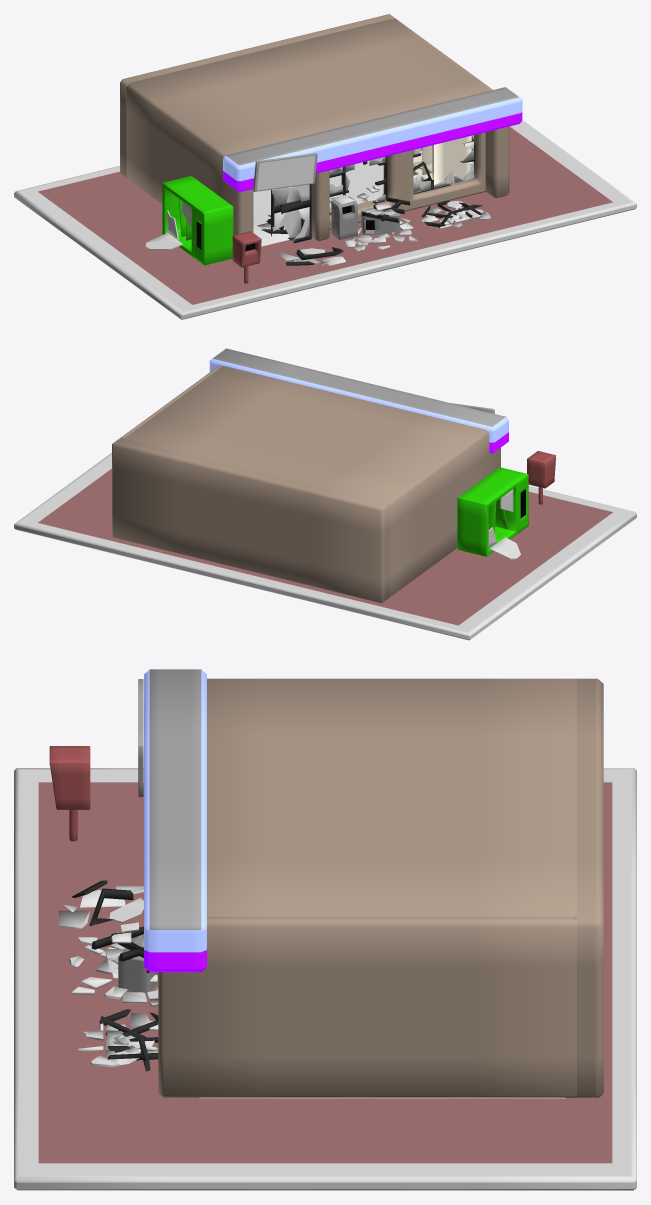
Rendered from Store_Inside_Rond.fbx.
3 views of the same model, one above another, from view 1: azimuth 30°, elevation 25°; view 2: azimuth 150°, elevation 25°; view 3: azimuth 270°, elevation 25° (orthographic). The views are drawn at different scales.
Visible parts, largest first — view 1: Plane.001, Roof, Light_Purple_Blue, Right_Wall, Cube.013, Frot_wall, Back_Wall, Floor, Left_Wall, Name_Sign, Cube.015, Front_Pilar (+12 smaller); view 2: Back_Wall, Roof, Plane.001, Right_Wall, Light_Purple_Blue, Cube.013, Cylinder, Cube.014_cell; view 3: Plane.001, Roof, Left_Wall, Light_Purple_Blue, Back_Wall, Cube.026_cell, Cylinder, Cube.037_cell.002, Cube.023_cell.004, Trash_can, Cube.022_cell.001, Floor.
Boxes of the visible parts, left/top/right/bottom form: Plane.001: left=14, top=120, right=636, bottom=319; Roof: left=129, top=19, right=489, bottom=154; Light_Purple_Blue: left=223, top=87, right=522, bottom=192; Right_Wall: left=126, top=83, right=253, bottom=235; Cube.013: left=162, top=176, right=233, bottom=265; Frot_wall: left=303, top=132, right=485, bottom=229; Back_Wall: left=120, top=14, right=395, bottom=178; Floor: left=253, top=160, right=383, bottom=246; Left_Wall: left=392, top=18, right=509, bottom=198; Name_Sign: left=253, top=153, right=317, bottom=191; Cube.015: left=413, top=136, right=471, bottom=185; Front_Pilar: left=311, top=170, right=329, bottom=241; Back_Wall: left=112, top=437, right=389, bottom=603; Roof: left=124, top=366, right=485, bottom=502; Plane.001: left=14, top=453, right=636, bottom=640; Right_Wall: left=387, top=430, right=500, bottom=596; Light_Purple_Blue: left=209, top=348, right=508, bottom=453; Cube.013: left=457, top=467, right=528, bottom=556; Cylinder: left=527, top=451, right=555, bottom=504; Cube.014_cell: left=488, top=489, right=520, bottom=559; Plane.001: left=14, top=768, right=636, bottom=1190; Roof: left=207, top=678, right=576, bottom=916; Left_Wall: left=158, top=916, right=576, bottom=1097; Light_Purple_Blue: left=144, top=669, right=206, bottom=972; Back_Wall: left=574, top=678, right=603, bottom=1097; Cube.026_cell: left=78, top=1009, right=158, bottom=1071; Cylinder: left=49, top=746, right=90, bottom=841; Cube.037_cell.002: left=59, top=880, right=143, bottom=928; Cube.023_cell.004: left=69, top=937, right=158, bottom=1006; Trash_can: left=118, top=935, right=158, bottom=994; Cube.022_cell.001: left=91, top=922, right=149, bottom=972; Floor: left=199, top=1097, right=565, bottom=1098.
Bounding box in the file's own units: 1707 × 384 × 1087.
